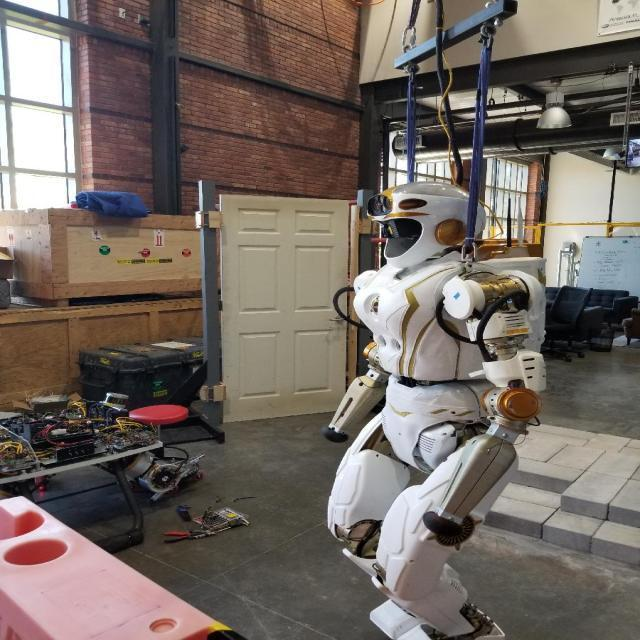door: (215, 192, 352, 426), (322, 314, 348, 326)
